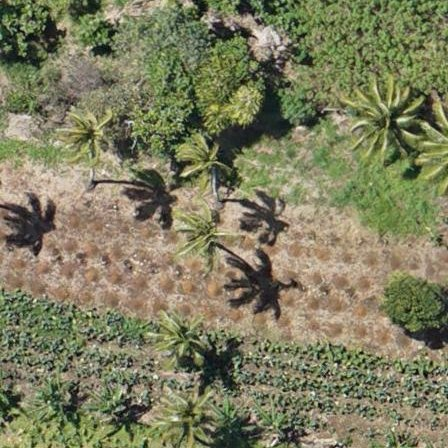palm_tree: (350, 79, 420, 154), (169, 206, 230, 270), (153, 387, 212, 448), (152, 308, 210, 370), (58, 101, 116, 162), (178, 133, 235, 195)
